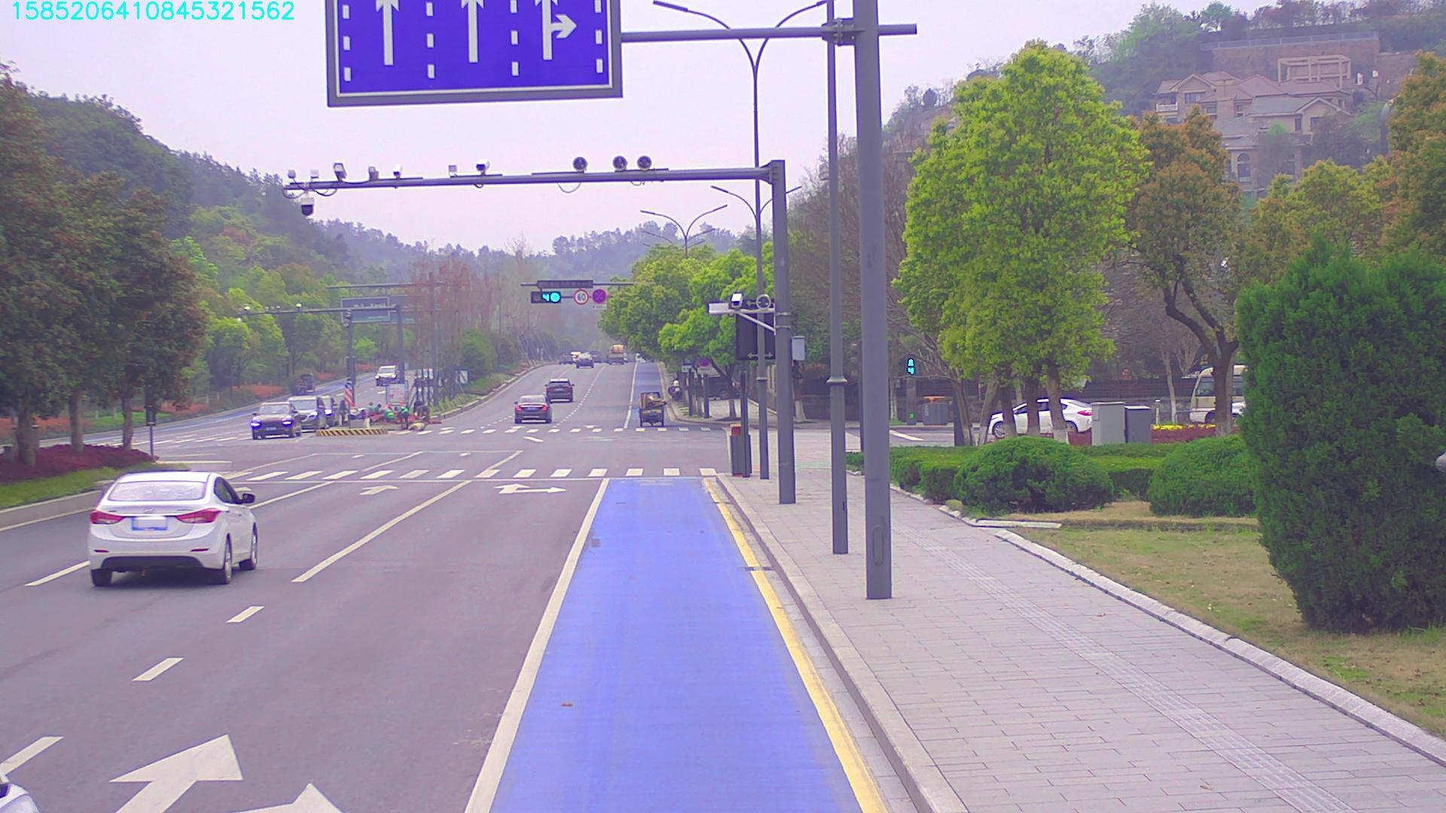green: (525, 288, 565, 303)
